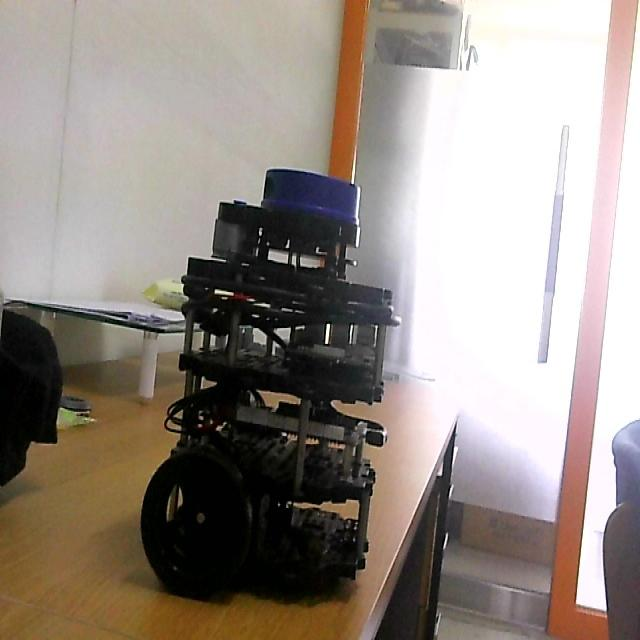turtle: (138, 160, 404, 605)
